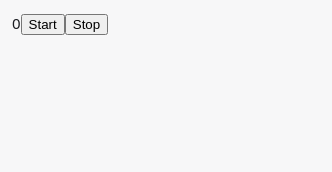
Test case: useRef › mutable value › stores the interval id without re-rendering; double start is a no-op
This screenshot has width=332, height=172.
Later steps or results of the test are not shown.
Click the button "Start": (43, 24) [21,14,65,35]
Click the button "Start": (43, 24) [21,14,65,35]
Wait 3000 ms
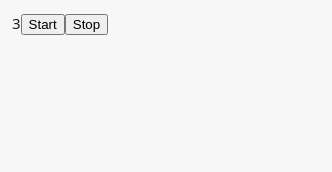
Result: the text named "ticks" reads "3" at [12,13,21,33]
Click the button "Stop": (86, 24) [65,14,108,35]
Result: the text named "ticks" reads "3" at [12,13,21,33]
